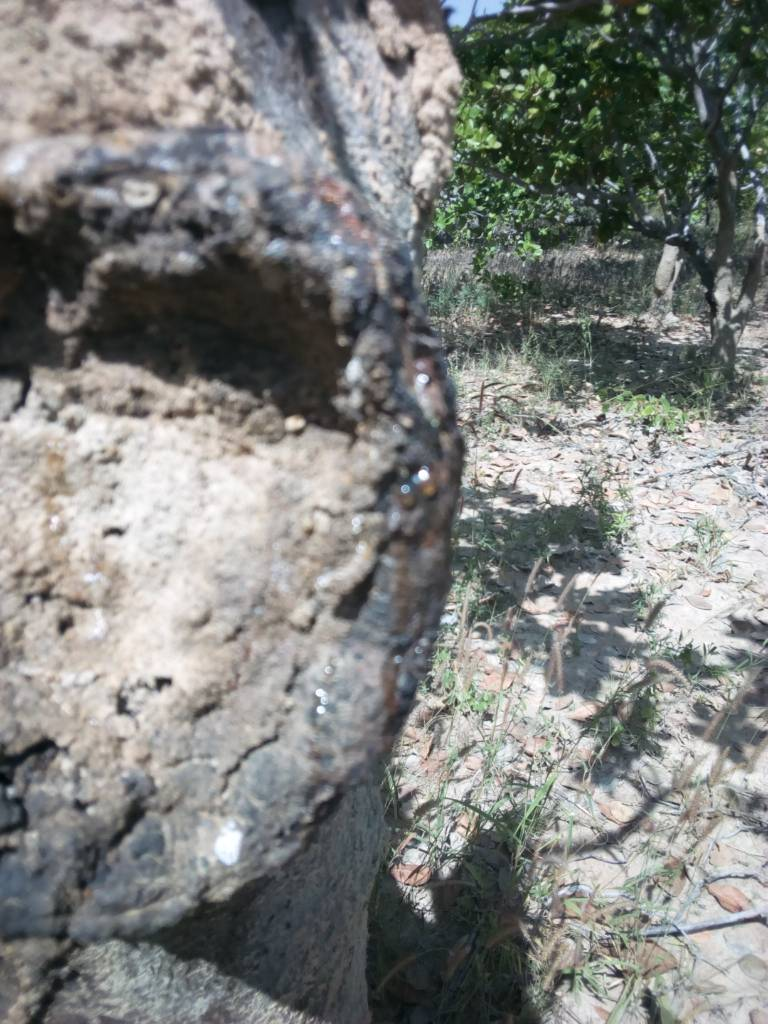Termites: (8, 16, 394, 1024)
